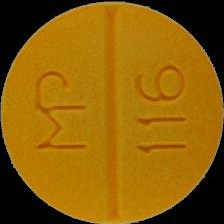60429-698: (0, 0, 224, 224)
